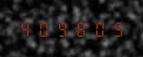eight: (72, 20, 89, 37)
five: (108, 20, 125, 37)
four: (17, 20, 34, 37)
nine: (54, 20, 71, 37)
zero: (35, 20, 52, 37), (90, 20, 107, 37)
